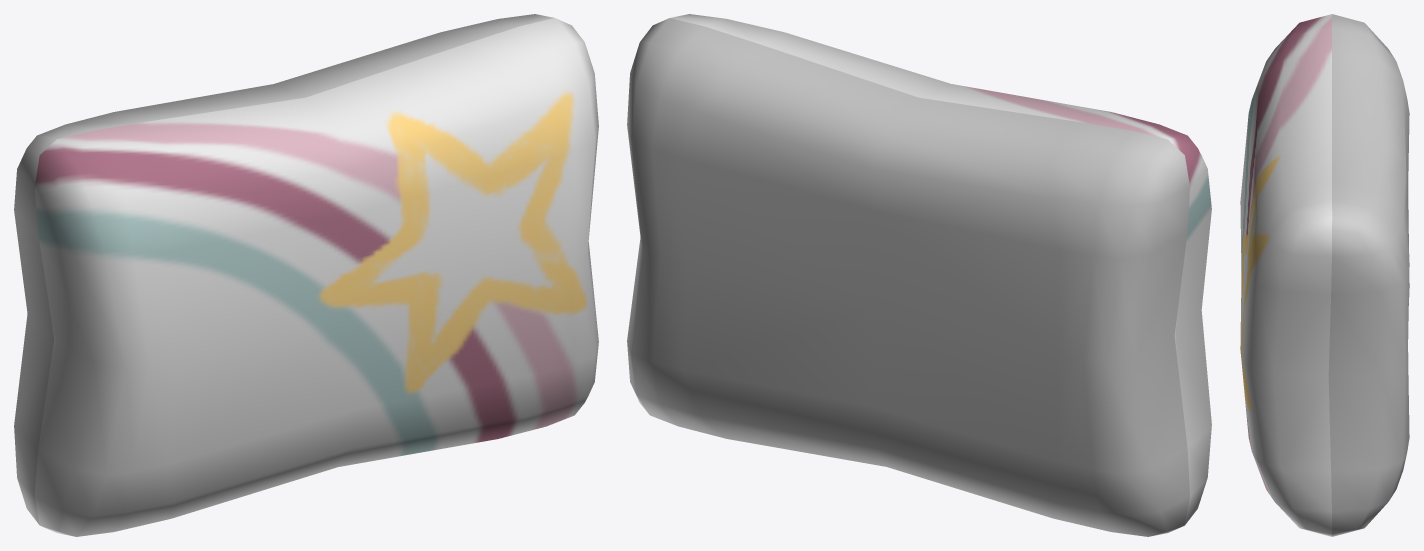
File: SM_Props_Pillow_04.fbx
The picture shows the model from 3 angles, left to right: view 1: azimuth 30°, elevation 25°; view 2: azimuth 150°, elevation 25°; view 3: azimuth 270°, elevation 25°; orthographic projection. The views are drawn at different scales.
Parts seen in each view (by area): view 1: SM_Props_Pillow_04; view 2: SM_Props_Pillow_04; view 3: SM_Props_Pillow_04.
Part boxes in pixels (x1=…): SM_Props_Pillow_04: x1=14, y1=14, x2=598, y2=536; SM_Props_Pillow_04: x1=627, y1=14, x2=1211, y2=536; SM_Props_Pillow_04: x1=1240, y1=14, x2=1409, y2=536.
Size of the model in its own units: 0.8179 by 0.5675 by 0.2688.
